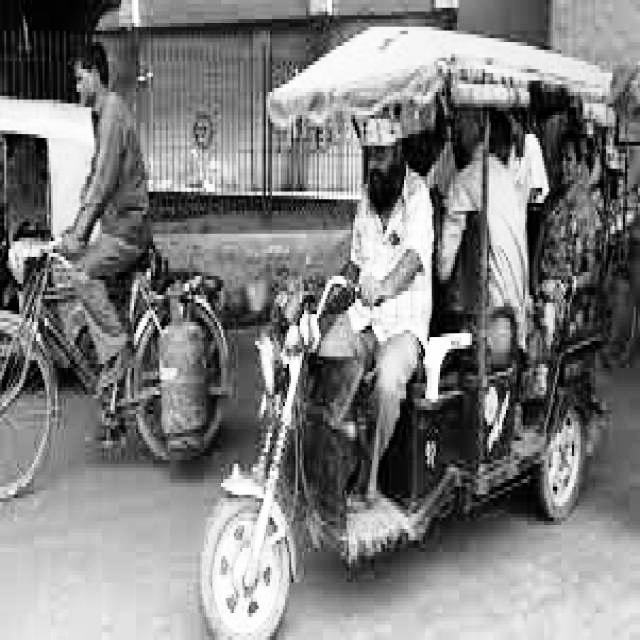Toto: (190, 20, 614, 640)
